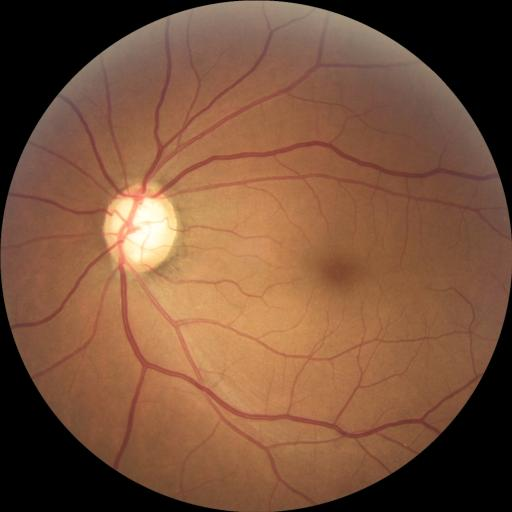Optic Cup: (111, 195, 166, 262)
Optic Disc: (103, 184, 179, 272)
